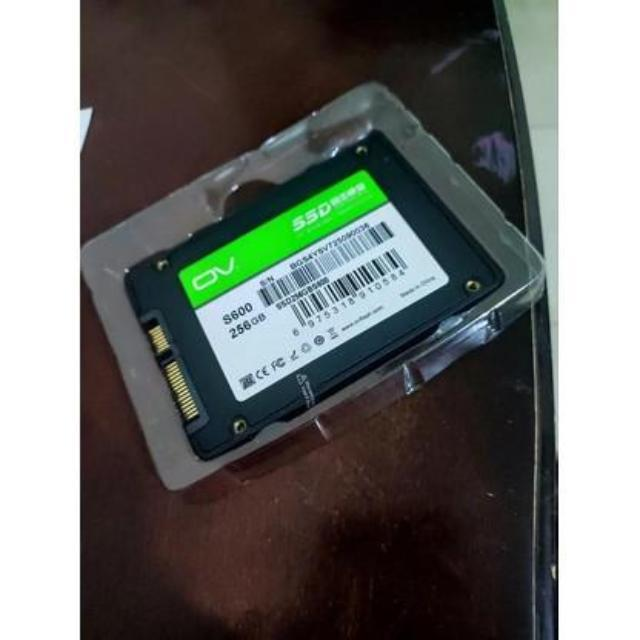DISK: (122, 128, 502, 446)
